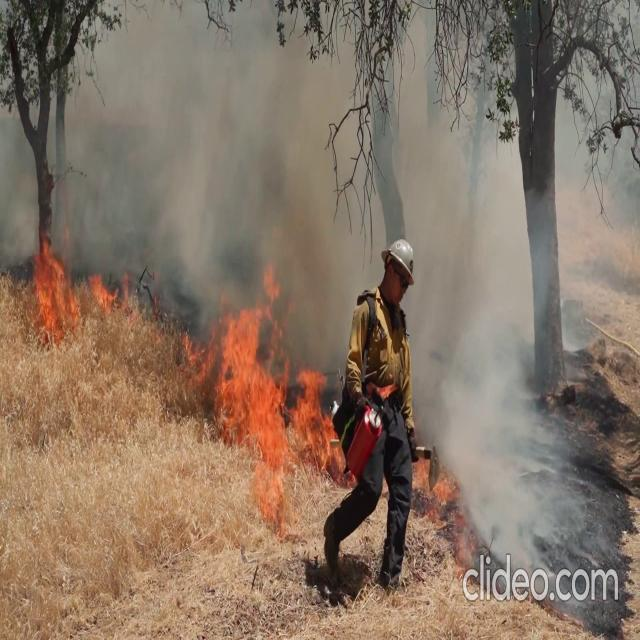Fire: (212, 286, 343, 500), (18, 230, 137, 332), (24, 231, 75, 332)
Smoke: (403, 43, 609, 590), (1, 13, 334, 297)
